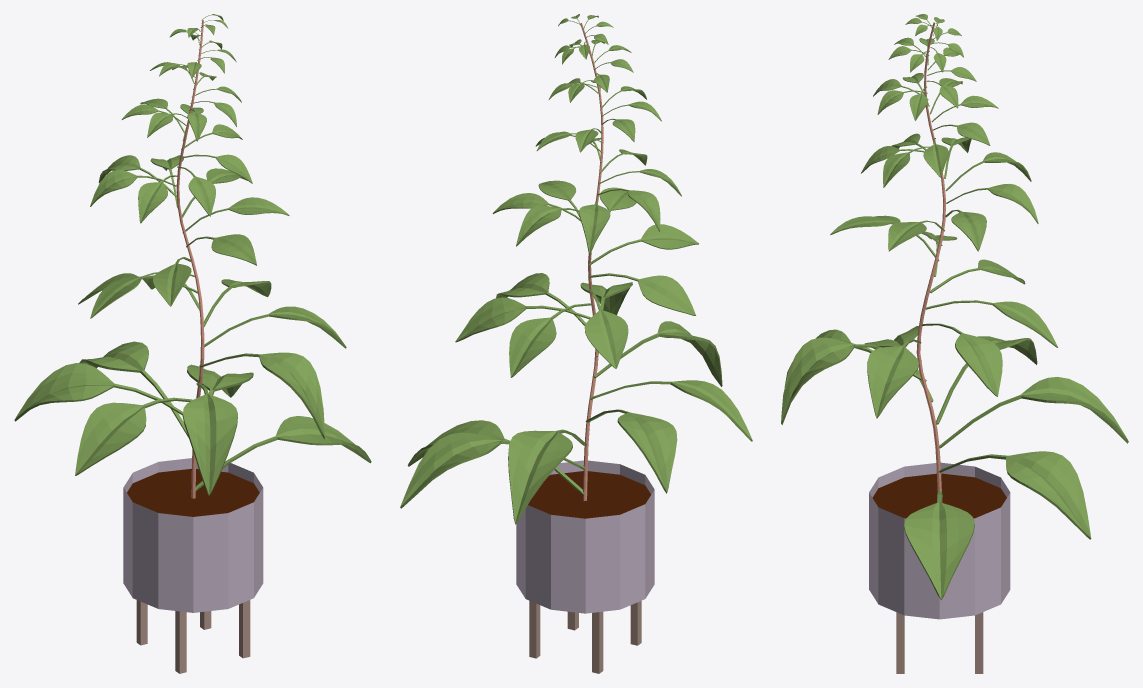
The model's file is spiral_plant.glb.
3 renders of one model, left to right at view 1: azimuth 30°, elevation 25°; view 2: azimuth 150°, elevation 25°; view 3: azimuth 270°, elevation 25°, orthographic. The views are drawn at different scales.
Visible parts, largest first — view 1: spiral_plant_leaf, spiral_plant_pot, spiral_plant_pot.001, spiral_plant_legs, spiral_plant_stem; view 2: spiral_plant_leaf, spiral_plant_pot, spiral_plant_pot.001, spiral_plant_legs, spiral_plant_stem; view 3: spiral_plant_leaf, spiral_plant_pot, spiral_plant_pot.001, spiral_plant_stem, spiral_plant_legs.
Boxes of the visible parts, x1,y1,x2,y2 form: spiral_plant_leaf: (14, 14, 371, 495); spiral_plant_pot: (123, 458, 263, 612); spiral_plant_pot.001: (127, 468, 259, 516); spiral_plant_legs: (136, 600, 250, 673); spiral_plant_stem: (176, 20, 204, 498); spiral_plant_leaf: (400, 14, 752, 524); spiral_plant_pot: (516, 460, 654, 613); spiral_plant_pot.001: (528, 471, 651, 518); spiral_plant_legs: (529, 600, 641, 673); spiral_plant_stem: (580, 23, 603, 500); spiral_plant_leaf: (781, 14, 1128, 600); spiral_plant_pot: (869, 462, 1010, 619); spiral_plant_pot.001: (872, 473, 1006, 518); spiral_plant_stem: (916, 22, 945, 502); spiral_plant_legs: (896, 612, 983, 673).
Size of the model in its own units: 7.01 by 13.11 by 6.47.
